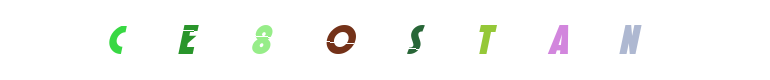8: (240, 0, 320, 80)
A: (520, 0, 600, 80)
C: (79, 0, 159, 80)
E: (226, 0, 306, 80)
N: (528, 0, 608, 80)
O: (301, 0, 381, 80)
S: (344, 0, 424, 80)
T: (432, 0, 512, 80)
